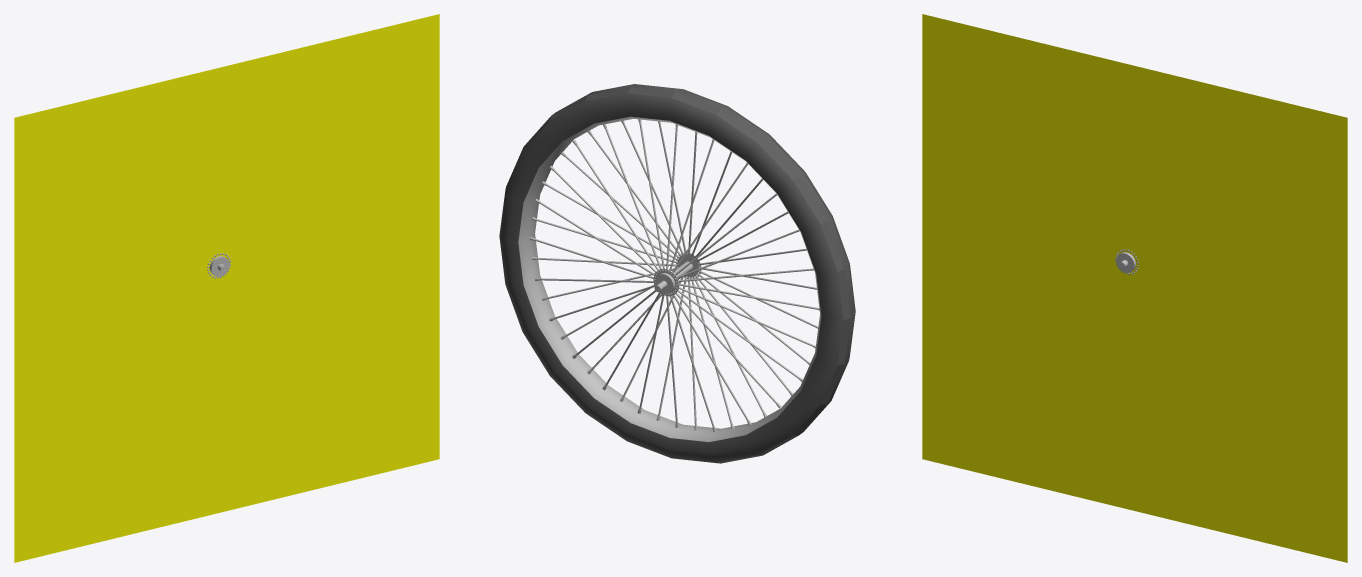
The model's file is Wheel.glb.
3 renders of one model, left to right at view 1: azimuth 30°, elevation 25°; view 2: azimuth 150°, elevation 25°; view 3: azimuth 330°, elevation 25°, orthographic.
Parts seen in each view (by area): view 1: Plane; view 2: Torus001, Line022, Wheel, Line023, Cylinder001; view 3: Plane.
Part boxes in pixels (box(x1,y1,x2,y2)): Plane: box(14, 14, 439, 562); Torus001: box(499, 84, 855, 463); Line022: box(530, 119, 819, 431); Wheel: box(518, 116, 821, 441); Line023: box(532, 120, 818, 430); Cylinder001: box(653, 252, 701, 296); Plane: box(922, 14, 1347, 562).
Bounding box in the file's own units: 0.1 × 0.1 × 0.0148.
Materials: 3 (1 with a texture image).
